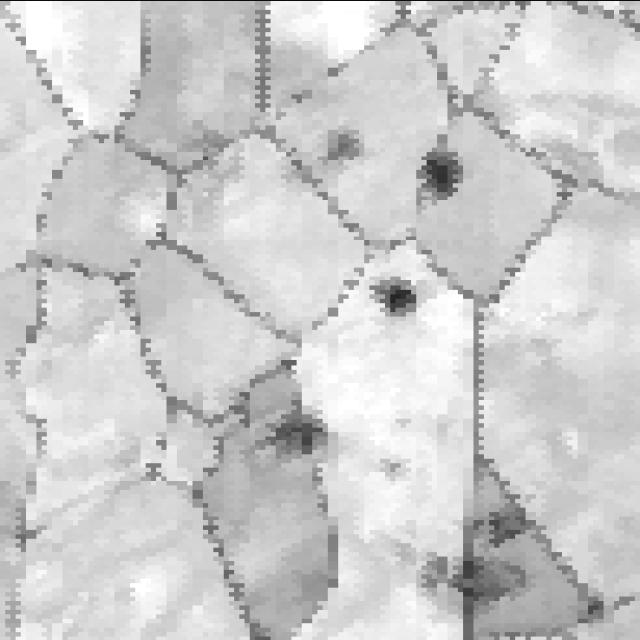good_void: (413, 554, 527, 610), (411, 142, 474, 204), (261, 414, 323, 467), (480, 503, 536, 550), (325, 122, 371, 165), (378, 281, 423, 317), (382, 452, 409, 479)
